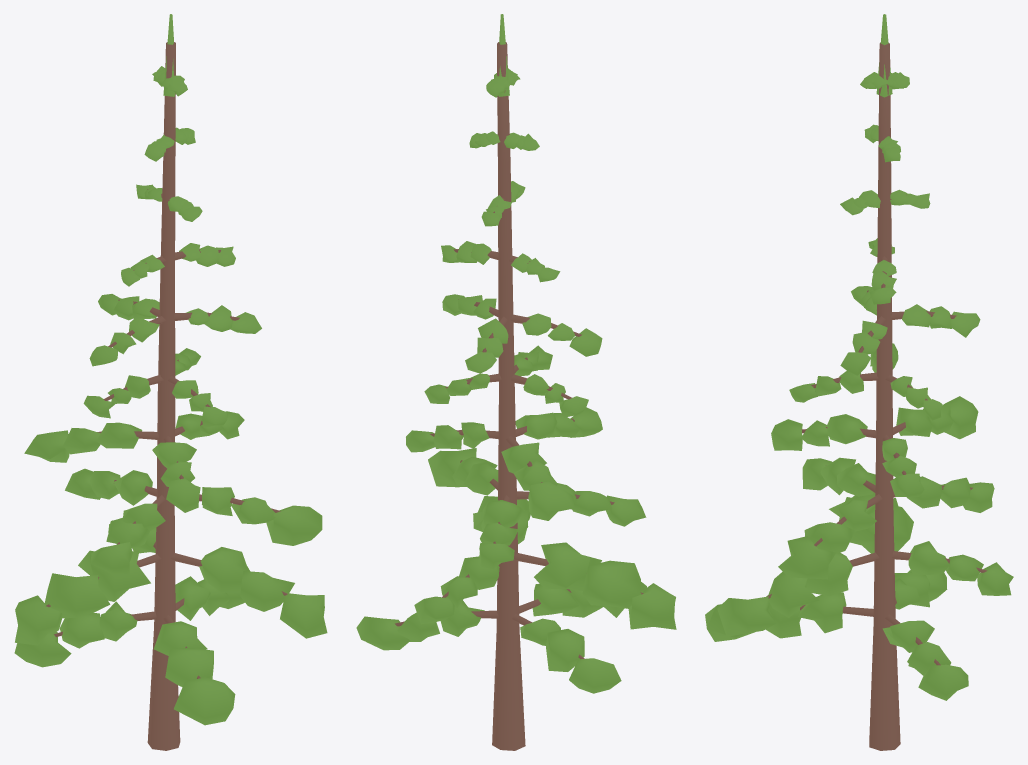
The model's file is Blender_Tamarack_1.glb.
3 views of the same model, side by side, from view 1: azimuth 30°, elevation 25°; view 2: azimuth 150°, elevation 25°; view 3: azimuth 270°, elevation 25° (orthographic).
Visible parts, largest first — view 1: Blender_Tamarack_1; view 2: Blender_Tamarack_1; view 3: Blender_Tamarack_1.
Part boxes in pixels (<box>): Blender_Tamarack_1: <box>14,14,327,750</box>; Blender_Tamarack_1: <box>356,14,676,750</box>; Blender_Tamarack_1: <box>705,14,1013,750</box>.
Size of the model in its own units: 6.11 by 15.15 by 5.79.
